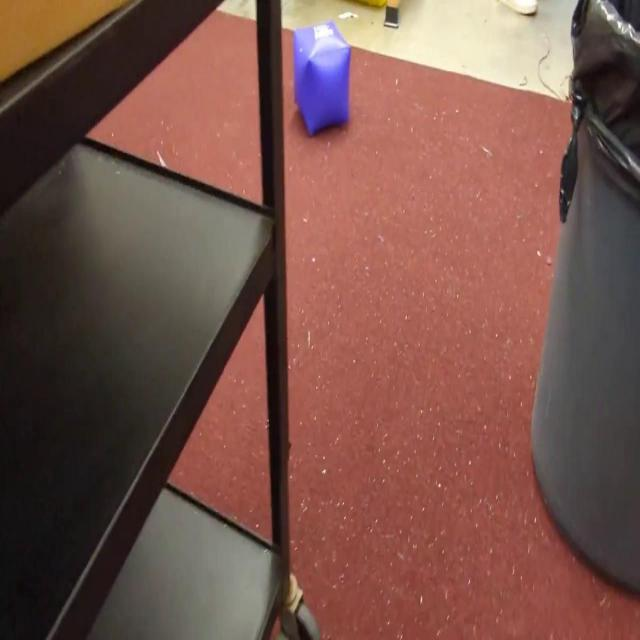frc_cube: (294, 21, 352, 135)
